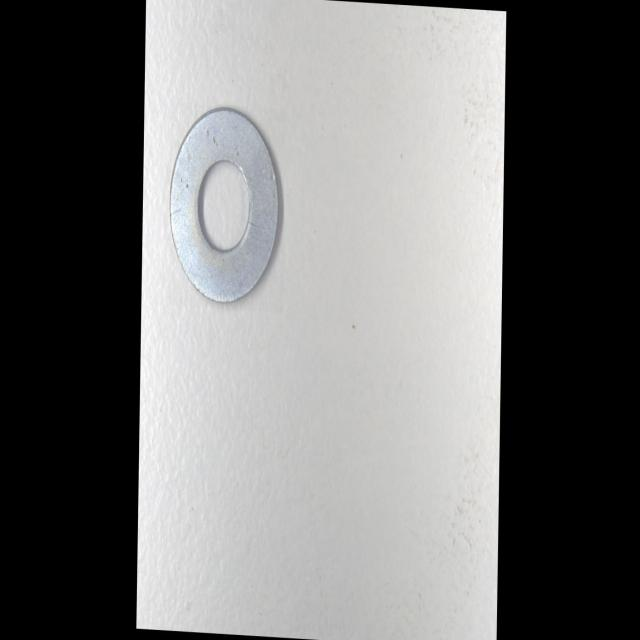washer: (170, 104, 284, 307)
